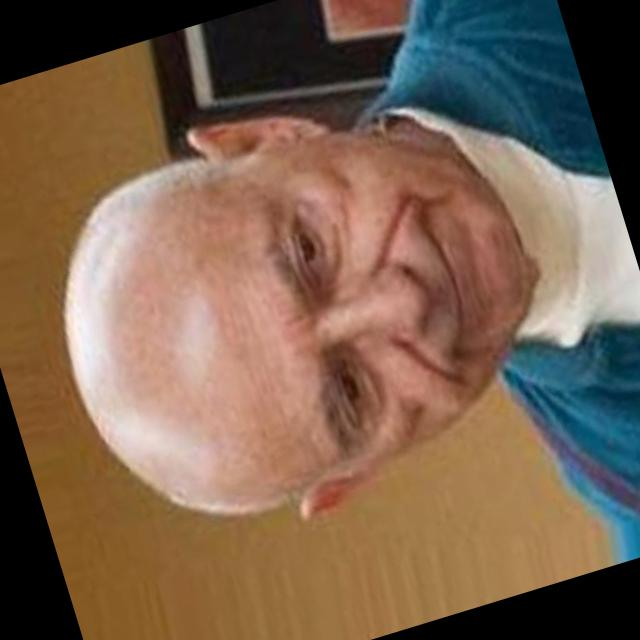bareface: (56, 72, 561, 546)
